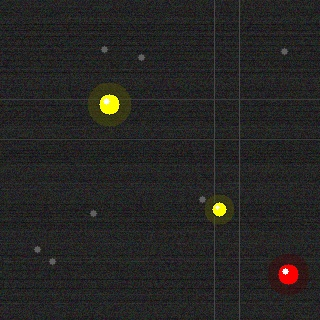red_fault: (276, 262, 300, 286)
yellow_warning: (97, 92, 121, 116), (210, 200, 228, 218)
